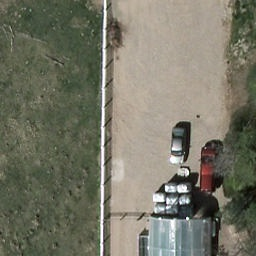car: (169, 127, 188, 164)
pickup: (200, 146, 221, 195)
